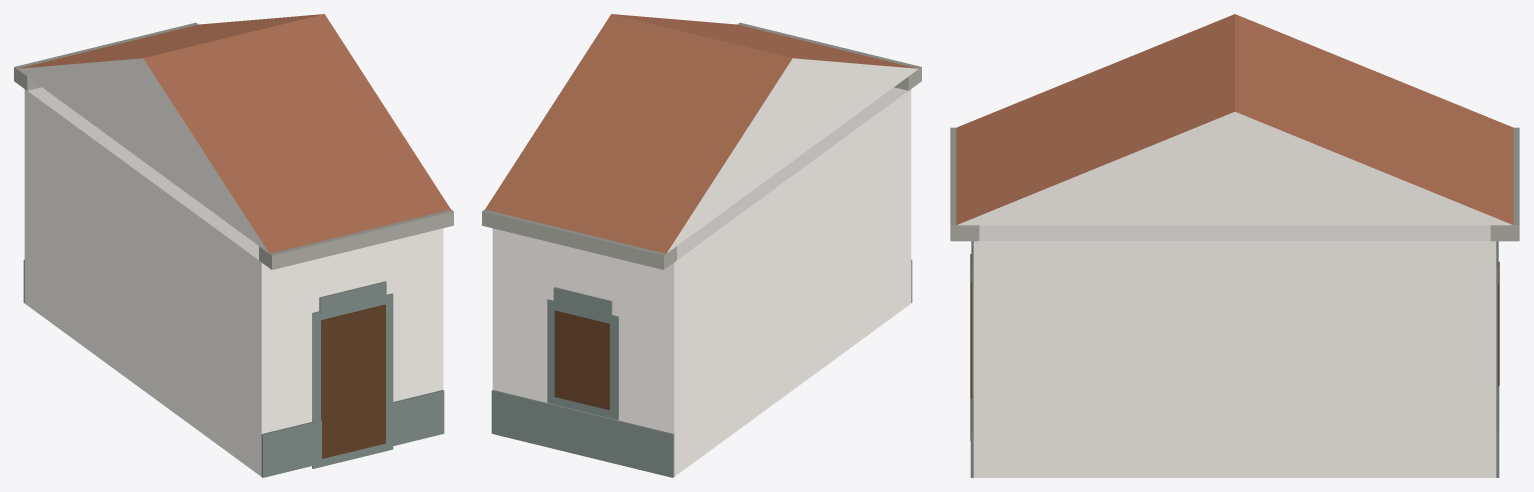
Rendered from SM_KitCuerpo_v2_LOD0.fbx.
The picture shows the model from 3 angles, left to right: view 1: azimuth 30°, elevation 25°; view 2: azimuth 150°, elevation 25°; view 3: azimuth 270°, elevation 25°; orthographic projection. The views are drawn at different scales.
Visible parts, largest first — view 1: SM_bloques.kit_cuerpo_v2_LOD0; view 2: SM_bloques.kit_cuerpo_v2_LOD0; view 3: SM_bloques.kit_cuerpo_v2_LOD0.
Part boxes in pixels (x1,y1,x2,y2): SM_bloques.kit_cuerpo_v2_LOD0: [14, 14, 453, 477]; SM_bloques.kit_cuerpo_v2_LOD0: [482, 14, 921, 477]; SM_bloques.kit_cuerpo_v2_LOD0: [950, 14, 1519, 477].
Size of the model in its own units: 3.99 by 7.04 by 9.8.
